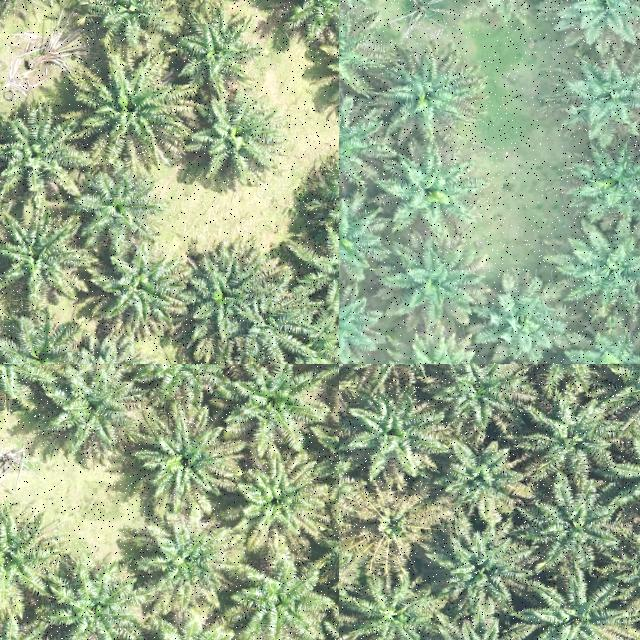Ganoderma: (362, 499, 422, 548)
